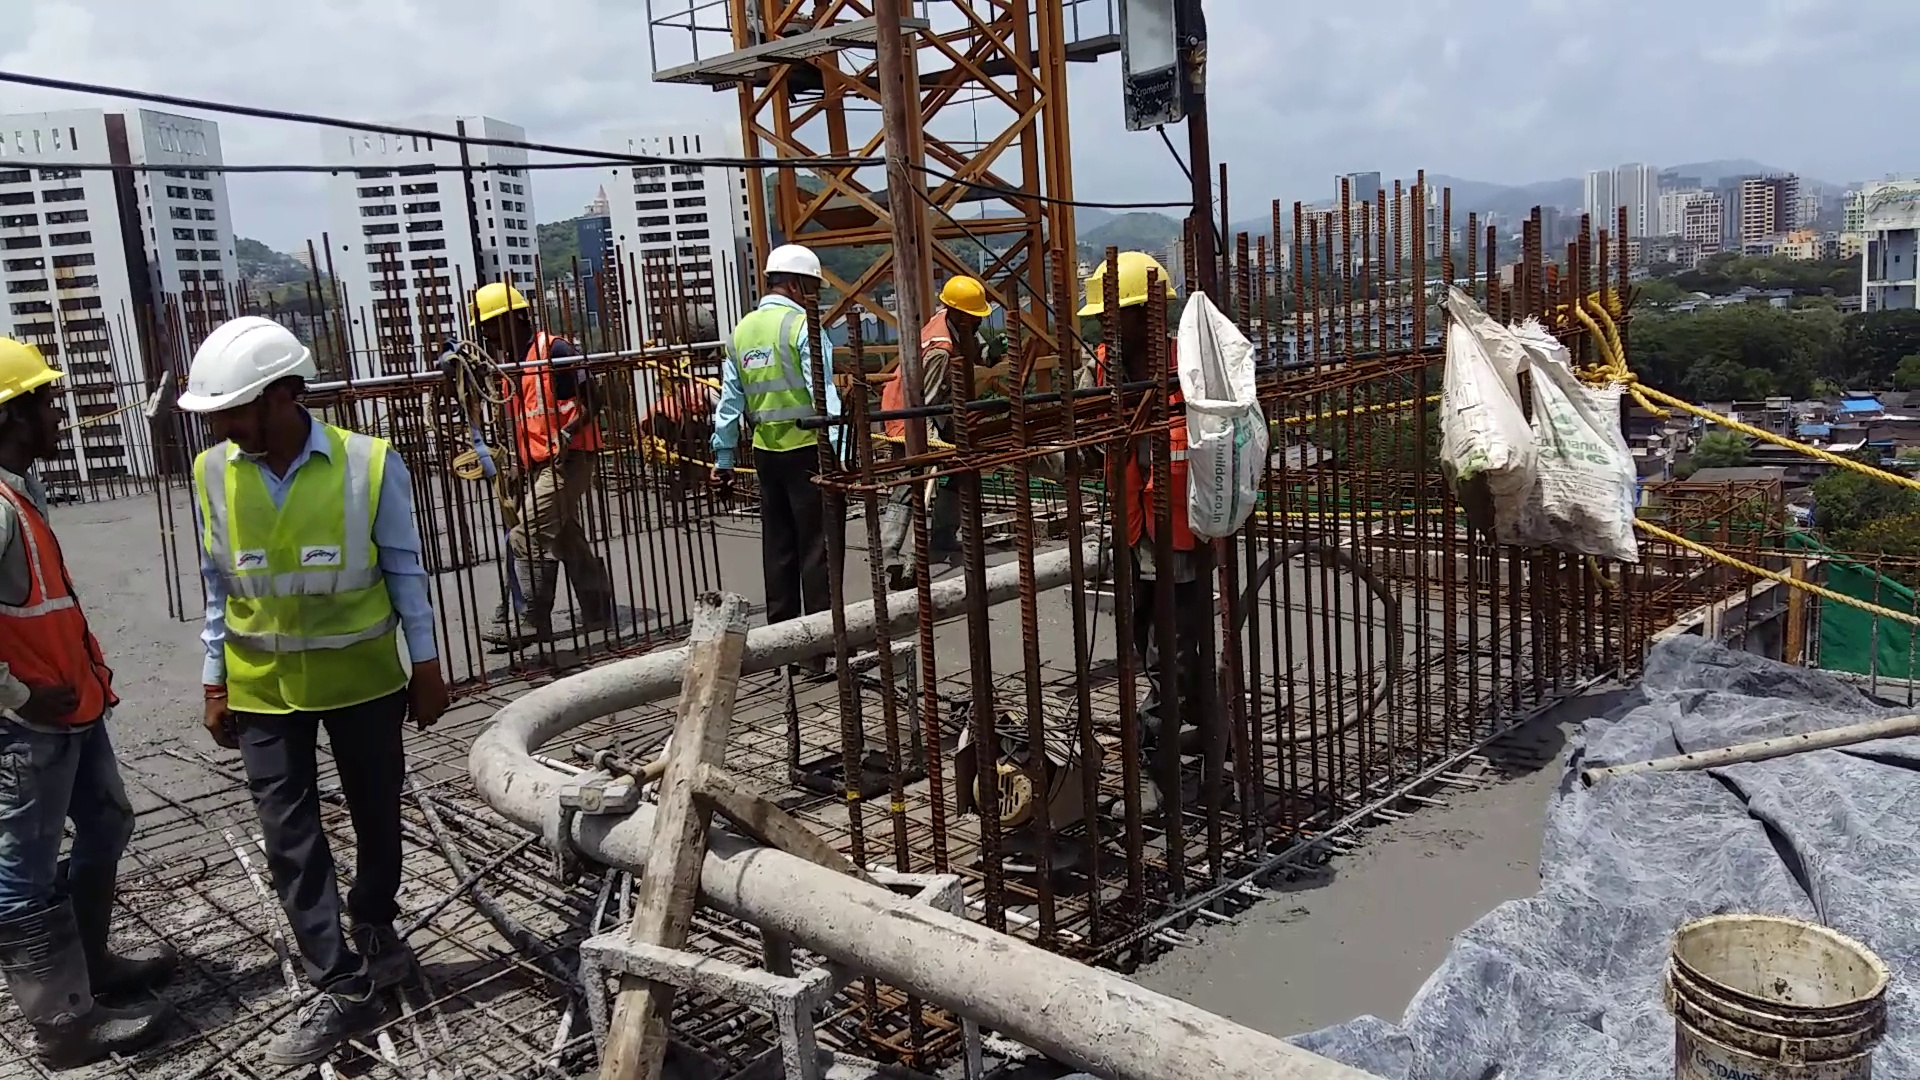SAFE: (174, 309, 388, 712), (1, 335, 109, 735), (735, 247, 829, 448)
